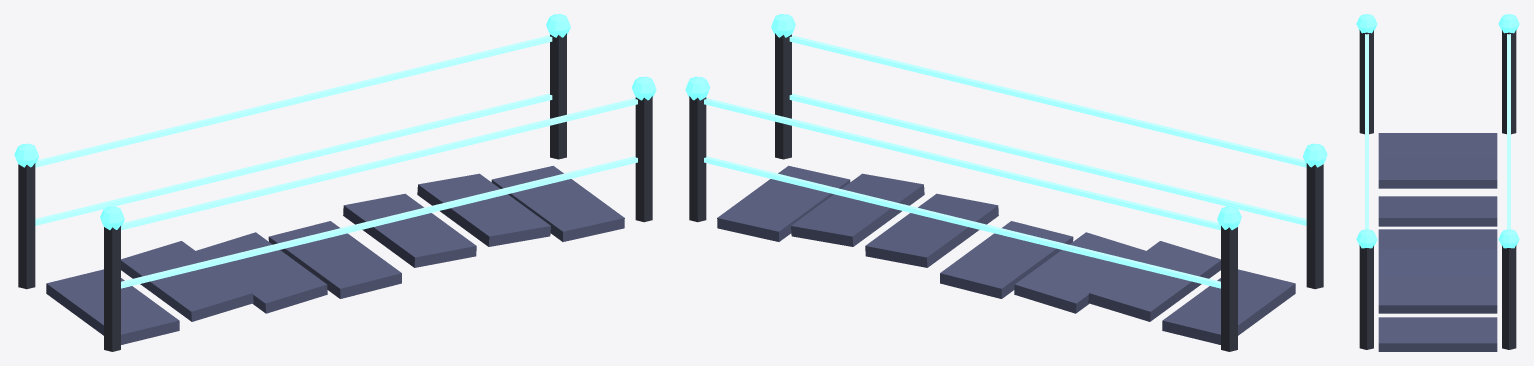
File: Mine_Bridge_Hover.fbx
3 views of the same model, side by side, from view 1: azimuth 30°, elevation 25°; view 2: azimuth 150°, elevation 25°; view 3: azimuth 270°, elevation 25° (orthographic). The views are drawn at different scales.
Visible parts, largest first — view 1: Mine_Bridge_Hover_Plates, Mine_Bridge_Hover_Body; view 2: Mine_Bridge_Hover_Plates, Mine_Bridge_Hover_Body; view 3: Mine_Bridge_Hover_Plates, Mine_Bridge_Hover_Body.
Boxes of the visible parts, bbox=[...] form: Mine_Bridge_Hover_Plates: bbox=[14, 14, 656, 344]; Mine_Bridge_Hover_Body: bbox=[18, 33, 652, 351]; Mine_Bridge_Hover_Plates: bbox=[685, 14, 1327, 344]; Mine_Bridge_Hover_Body: bbox=[689, 33, 1323, 351]; Mine_Bridge_Hover_Plates: bbox=[1356, 14, 1519, 351]; Mine_Bridge_Hover_Body: bbox=[1359, 30, 1516, 349].
Size of the model in its own units: 4.48 by 1.23 by 1.38.
